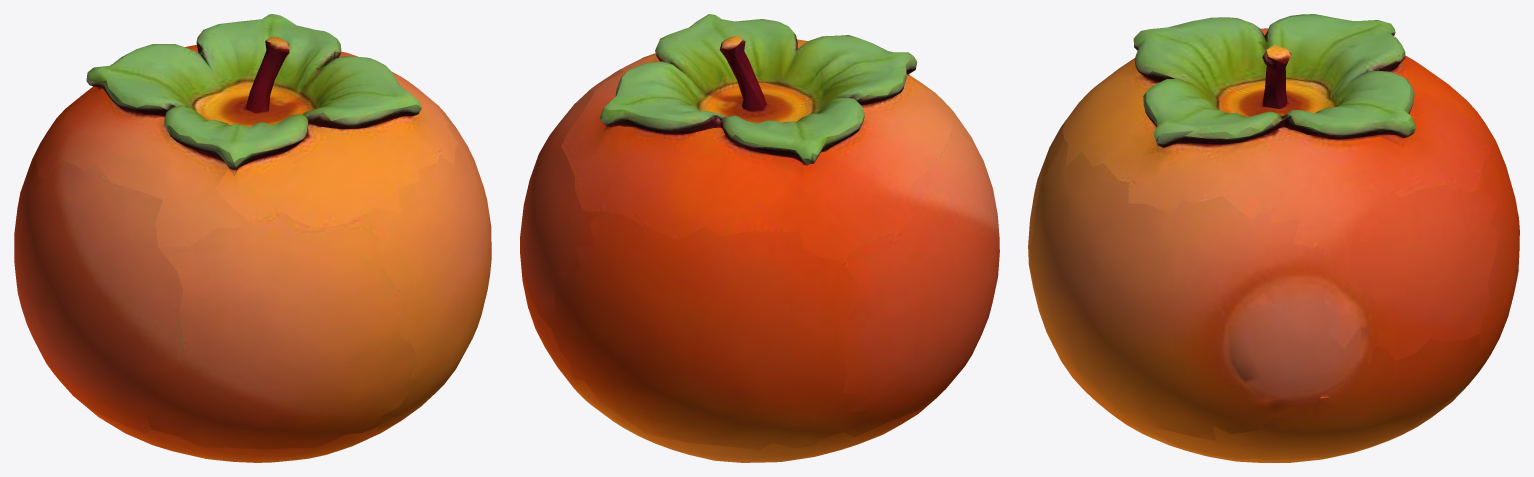
The model's file is persimmon.glb.
3 renders of one model, left to right at view 1: azimuth 30°, elevation 25°; view 2: azimuth 150°, elevation 25°; view 3: azimuth 270°, elevation 25°, orthographic. The views are drawn at different scales.
Visible parts, largest first — view 1: item_persimmon; view 2: item_persimmon; view 3: item_persimmon.
Part boxes in pixels (box(x1,y1,x2,y2)): item_persimmon: box(14, 14, 491, 462); item_persimmon: box(520, 14, 999, 462); item_persimmon: box(1028, 14, 1519, 462).
Bounding box in the file's own units: 0.9996 × 0.8797 × 1.
Materials: 1 (1 with a texture image).
